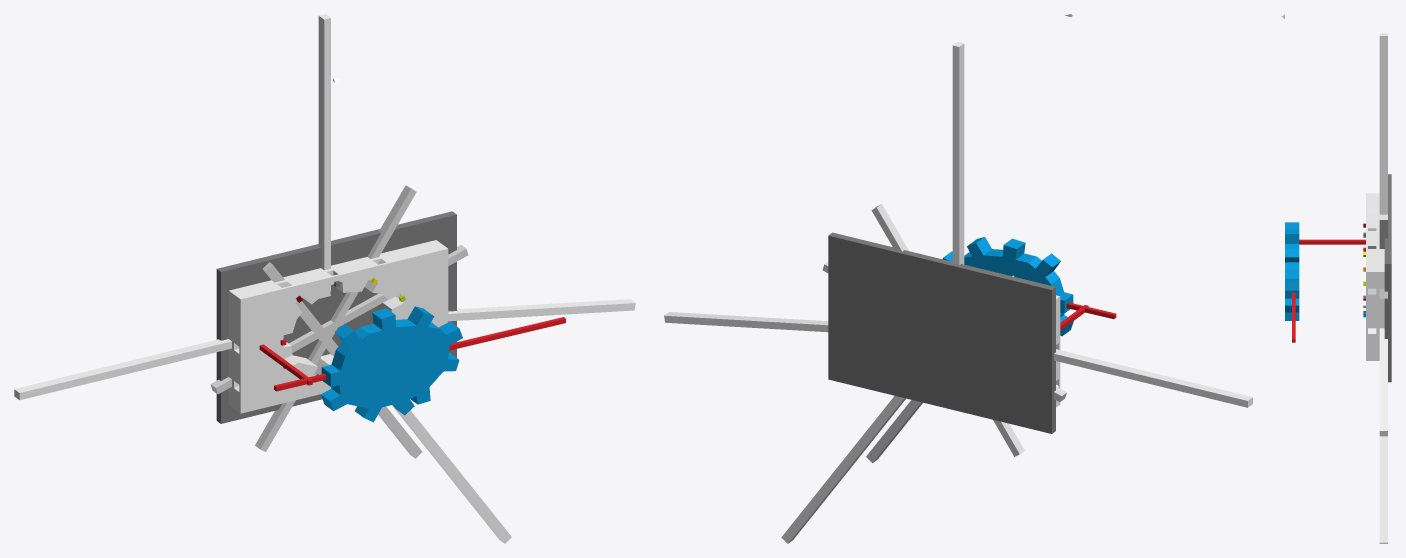
Rendered from gate_v4.obj.
The picture shows the model from 3 angles, left to right: view 1: azimuth 30°, elevation 25°; view 2: azimuth 150°, elevation 25°; view 3: azimuth 270°, elevation 25°; orthographic projection. The views are drawn at different scales.
Parts seen in each view (by area): view 1: Object.9, Object.2, Object.3, Object.4, Object.5, Object.7, Object.6, Object.8, Object.11; view 2: Object.3, Object.2, Object.5, Object.7, Object.4, Object.8, Object.6; view 3: Object.9, Object.5, Object.2, Object.3, Object.8, Object.6, Object.20, Object.4, Object.11.
Boxes of the visible parts, left/top/right/bottom form: Object.9: left=228, top=240, right=448, bottom=413; Object.2: left=321, top=306, right=462, bottom=422; Object.3: left=216, top=211, right=456, bottom=423; Object.4: left=210, top=185, right=468, bottom=458; Object.5: left=318, top=14, right=330, bottom=291; Object.7: left=14, top=339, right=231, bottom=400; Object.6: left=448, top=299, right=635, bottom=321; Object.8: left=392, top=405, right=511, bottom=543; Object.11: left=274, top=317, right=565, bottom=391; Object.3: left=828, top=232, right=1055, bottom=433; Object.2: left=942, top=237, right=1073, bottom=336; Object.5: left=952, top=42, right=964, bottom=265; Object.7: left=1054, top=349, right=1252, bottom=407; Object.4: left=822, top=204, right=1066, bottom=463; Object.8: left=781, top=396, right=905, bottom=543; Object.6: left=664, top=312, right=828, bottom=332; Object.9: left=1366, top=193, right=1384, bottom=360; Object.5: left=1379, top=33, right=1387, bottom=214; Object.2: left=1285, top=222, right=1299, bottom=320; Object.3: left=1384, top=174, right=1391, bottom=382; Object.8: left=1379, top=436, right=1387, bottom=543; Object.6: left=1379, top=328, right=1387, bottom=436; Object.20: left=1299, top=239, right=1365, bottom=244; Object.4: left=1379, top=214, right=1387, bottom=298; Object.11: left=1292, top=292, right=1295, bottom=342.
Size of the model in its own units: 750 by 661 by 149.
